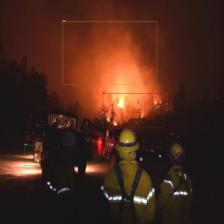fire: (103, 93, 164, 128)
smoke: (62, 21, 158, 85)
